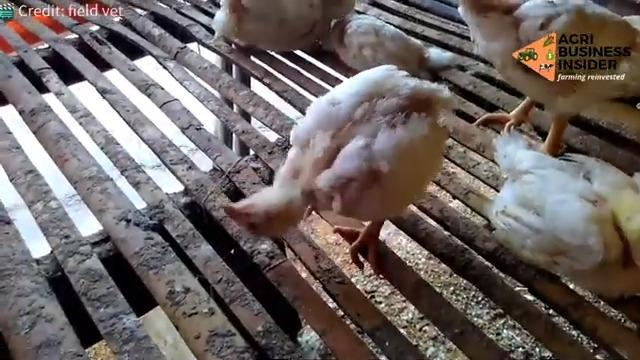AbNormal: (224, 73, 450, 244)
